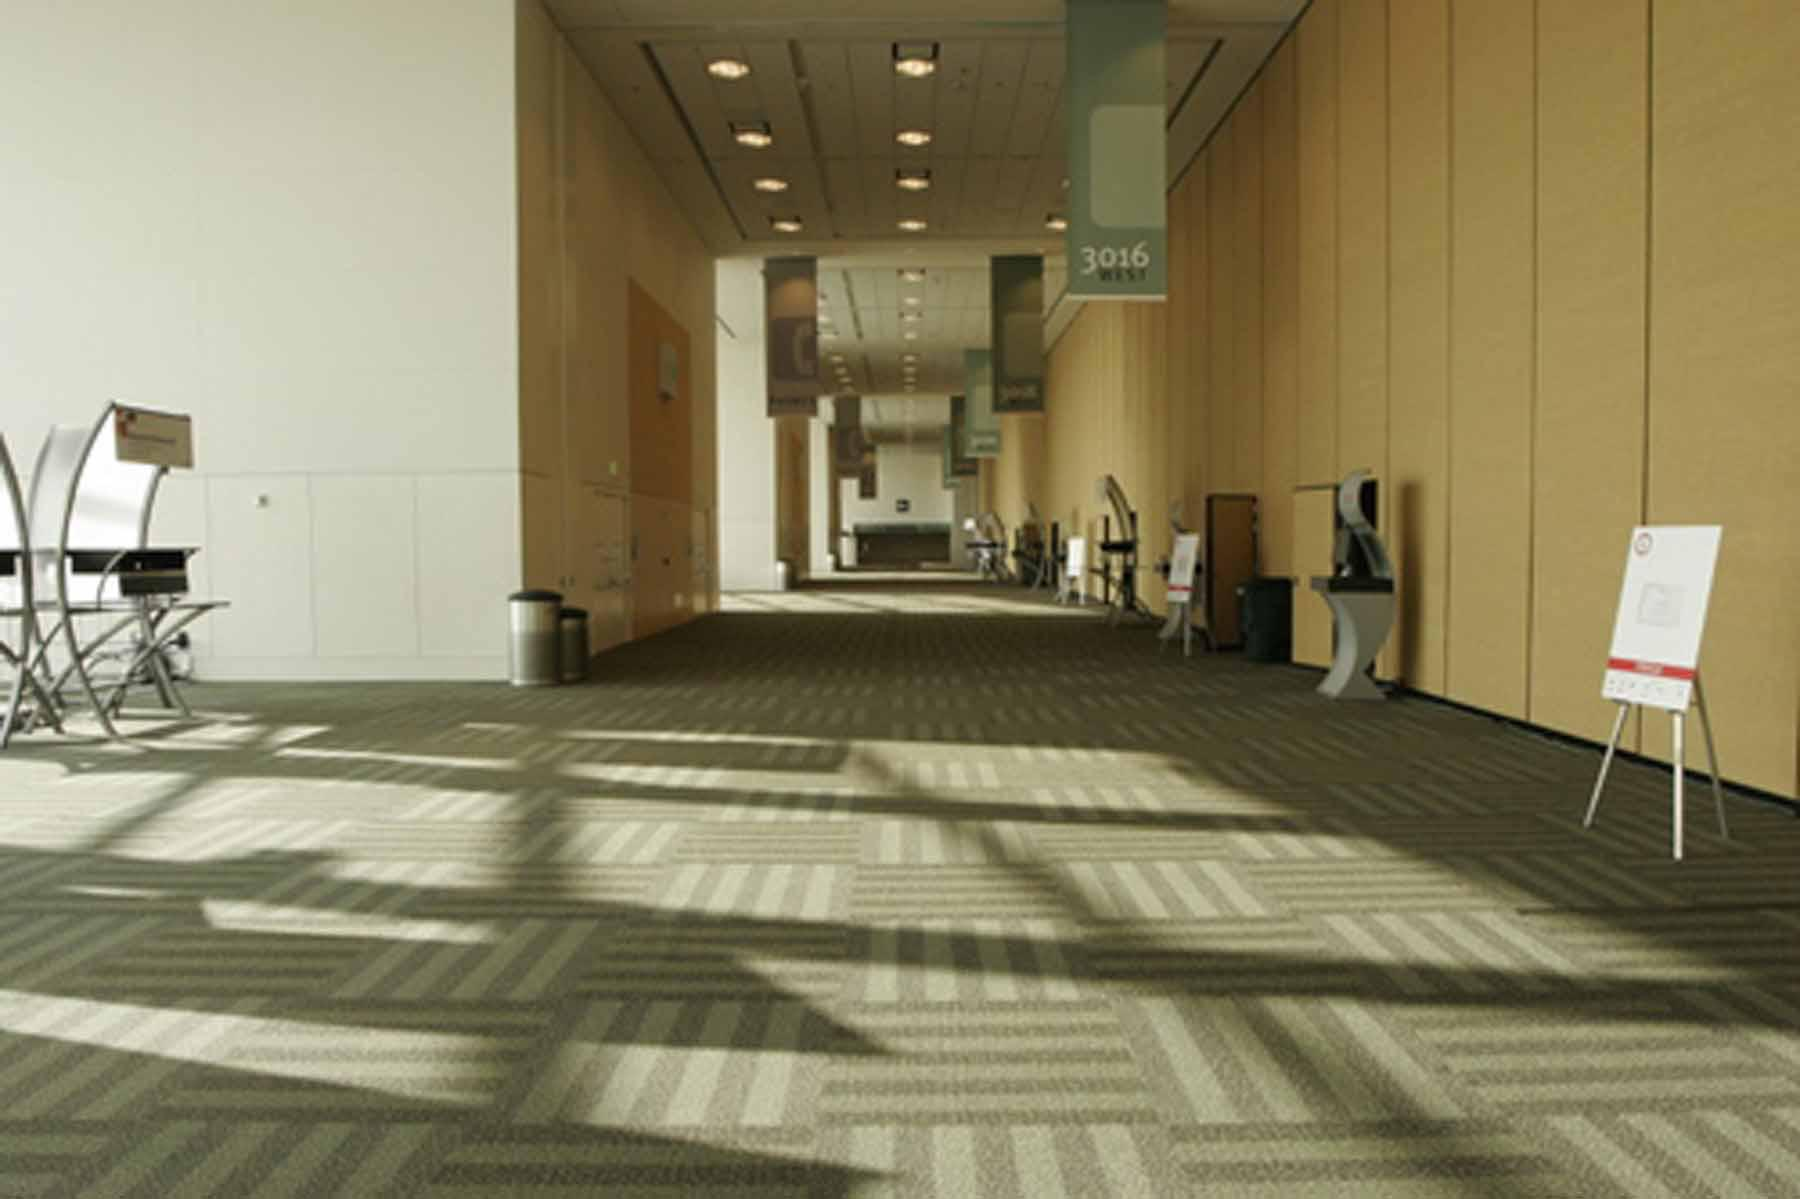Bote de Basura: (497, 574, 569, 699), (1237, 565, 1294, 665), (549, 593, 604, 688)
